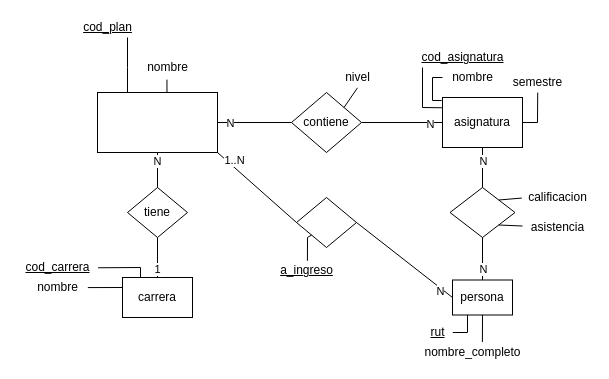
Some shapes in this 609 by 379 pixel diagram are drawn without their labels. Each missing label, with the centre of its shape:
"estudia" belongs at point 326,222.
"plan_de_estudio" belongs at point 157,122.
"rinde" belongs at point 482,212.
